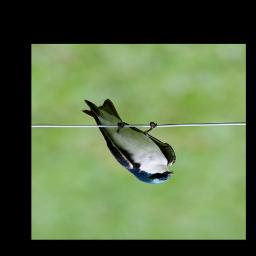Swallow: (80, 98, 177, 184)
